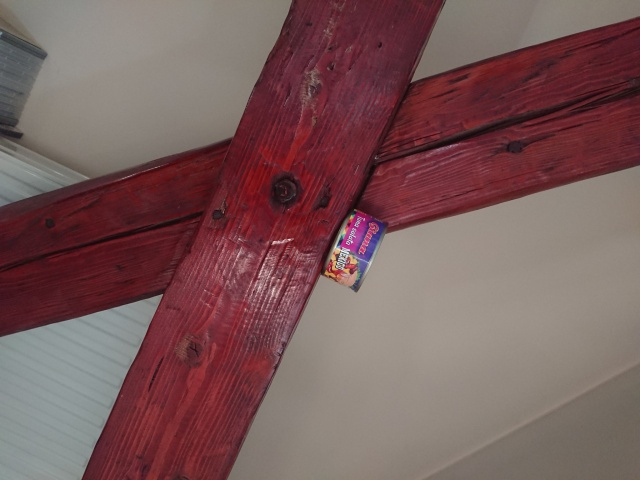Giana Tuna Salad Mexico 185g: (319, 206, 391, 294)
